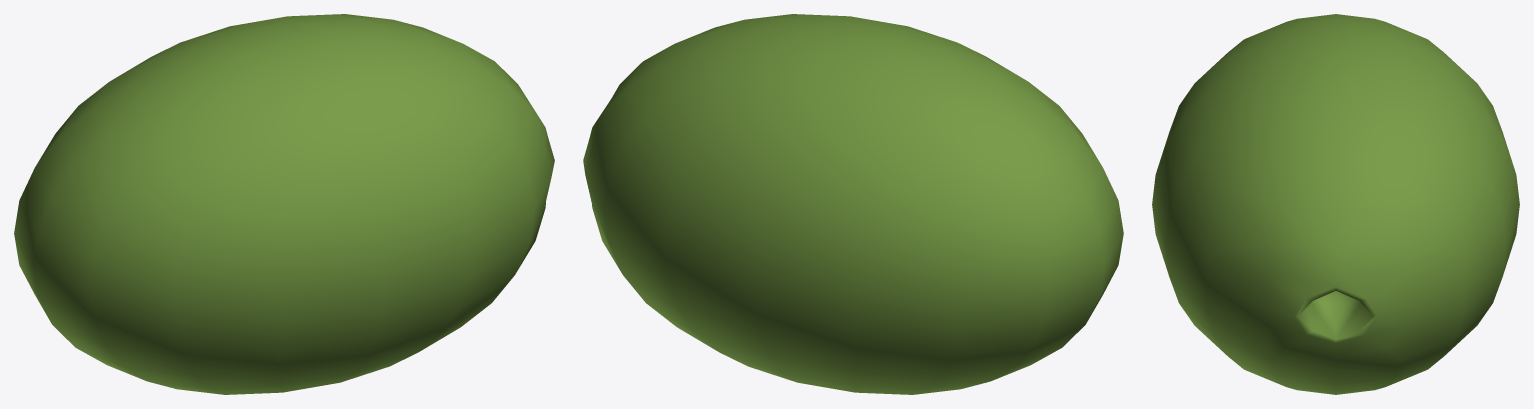
Rendered from 9_olijf.fbx.
3 views of the same model, side by side, from view 1: azimuth 30°, elevation 25°; view 2: azimuth 150°, elevation 25°; view 3: azimuth 270°, elevation 25° (orthographic). The views are drawn at different scales.
Visible parts, largest first — view 1: olive; view 2: olive; view 3: olive.
Part boxes in pixels (x1,y1,x2,y2): olive: (14,14,554,394); olive: (583,14,1123,394); olive: (1152,14,1519,394).
Size of the model in its own units: 35.43 by 24.39 by 22.4.
